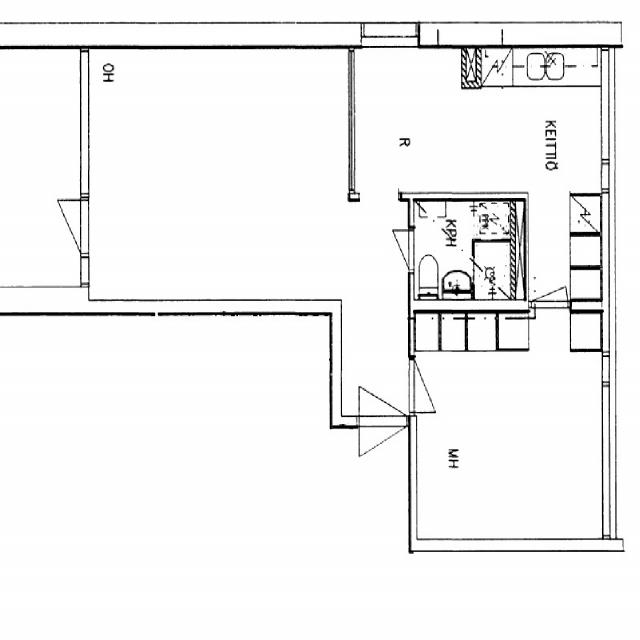door: (360, 357, 406, 428), (360, 415, 406, 486), (408, 358, 458, 414), (38, 200, 88, 253), (531, 253, 567, 311), (376, 231, 414, 270)
